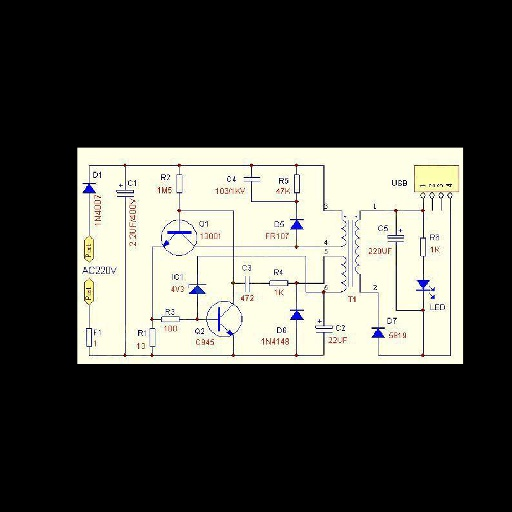capacitor: (242, 174, 262, 186), (241, 273, 253, 293)
firstdiode: (286, 306, 307, 322), (367, 324, 387, 340), (287, 216, 308, 231), (80, 180, 97, 194)
firstled: (413, 277, 438, 301)
firstresistance: (292, 172, 303, 195), (418, 234, 428, 258), (174, 172, 184, 195), (148, 326, 157, 350), (266, 278, 290, 287), (159, 315, 182, 323)
npn: (163, 228, 194, 249), (213, 305, 234, 336)
secondpolarcapacitor: (314, 317, 334, 335), (114, 183, 137, 198), (387, 229, 406, 244)
transformer: (339, 209, 365, 293)
